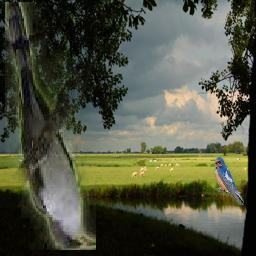Cuckoo: (6, 2, 97, 250)
Swallow: (214, 157, 244, 205)
